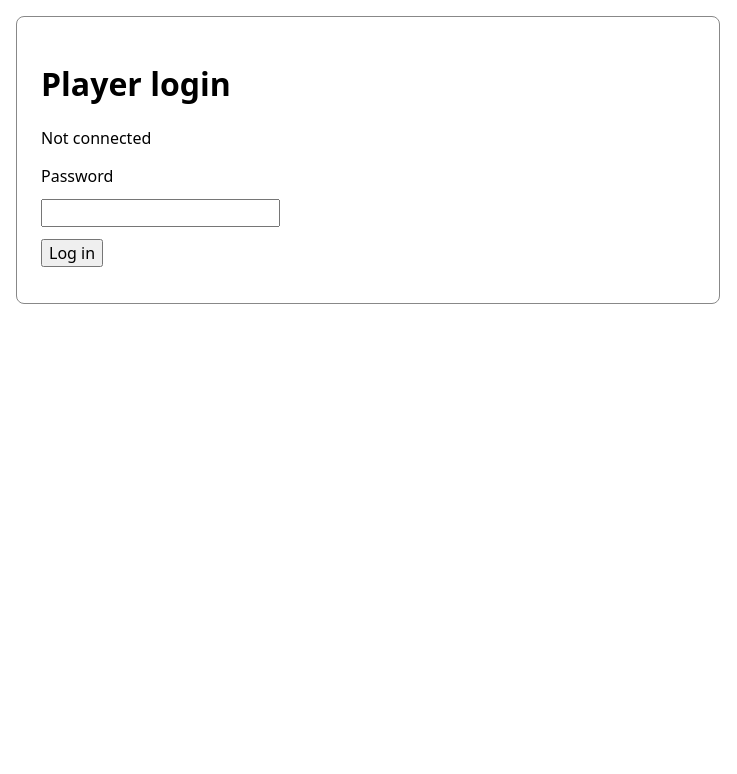
player gameplay projection and interactions › emits active-PC selection with the observed revision and resynchronizes stale errors
The width and height of the screenshot is (737, 774).
Step 1. Type "never-persist-this" into the password field named "password" → (160, 213), box [41, 199, 280, 227]
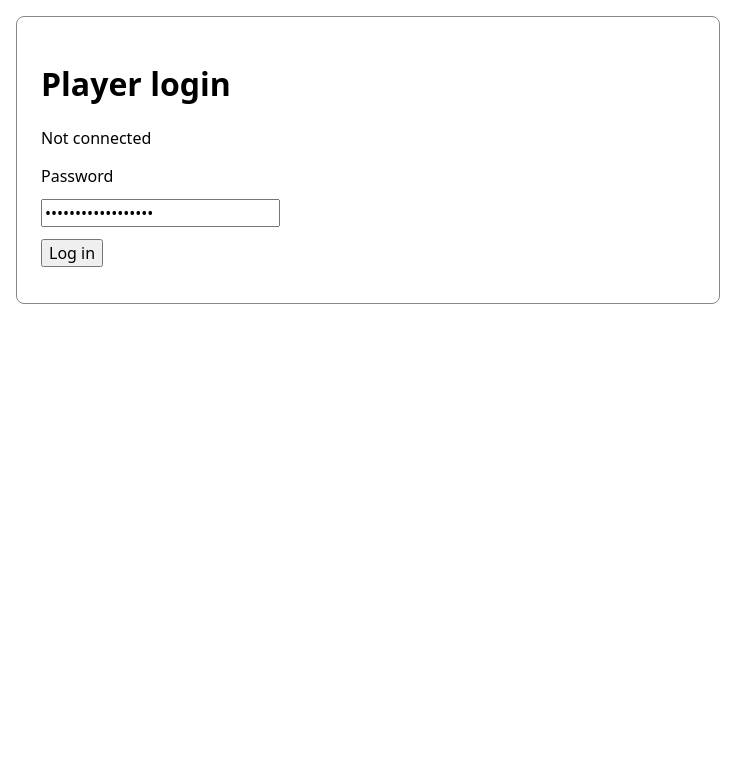
Step 2. Submit the form, box [41, 165, 280, 267]
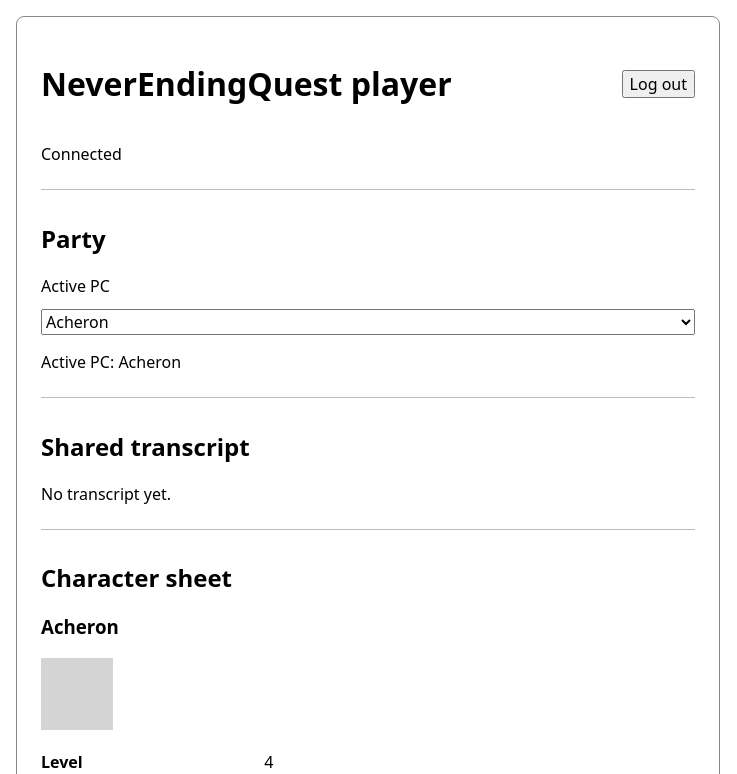
Step 3. Select "Merisiel" in the dropdown with id "active-pc" → (368, 322), box [41, 309, 695, 335]
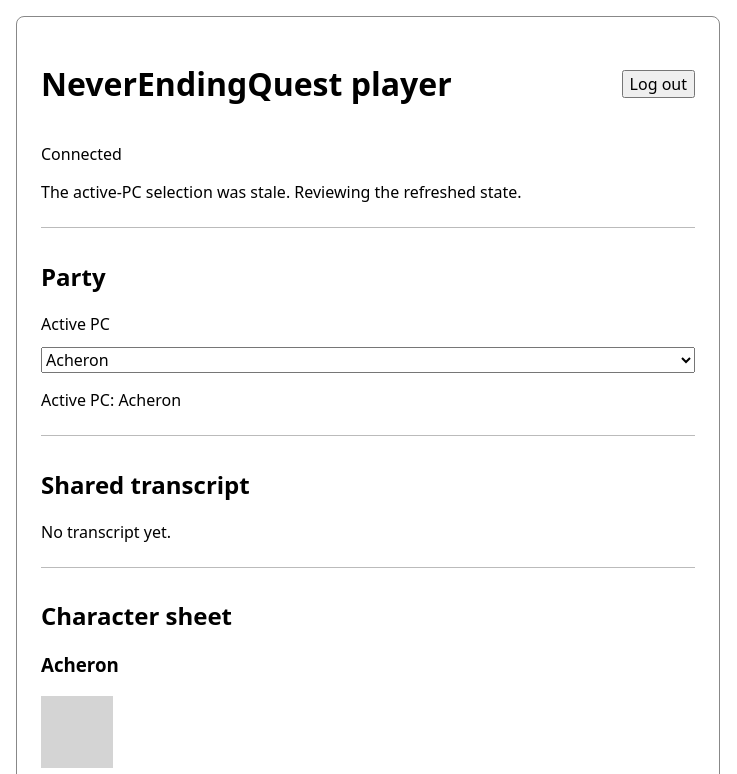
Result: the text "selection was stale" is shown at [41, 181, 522, 203]
